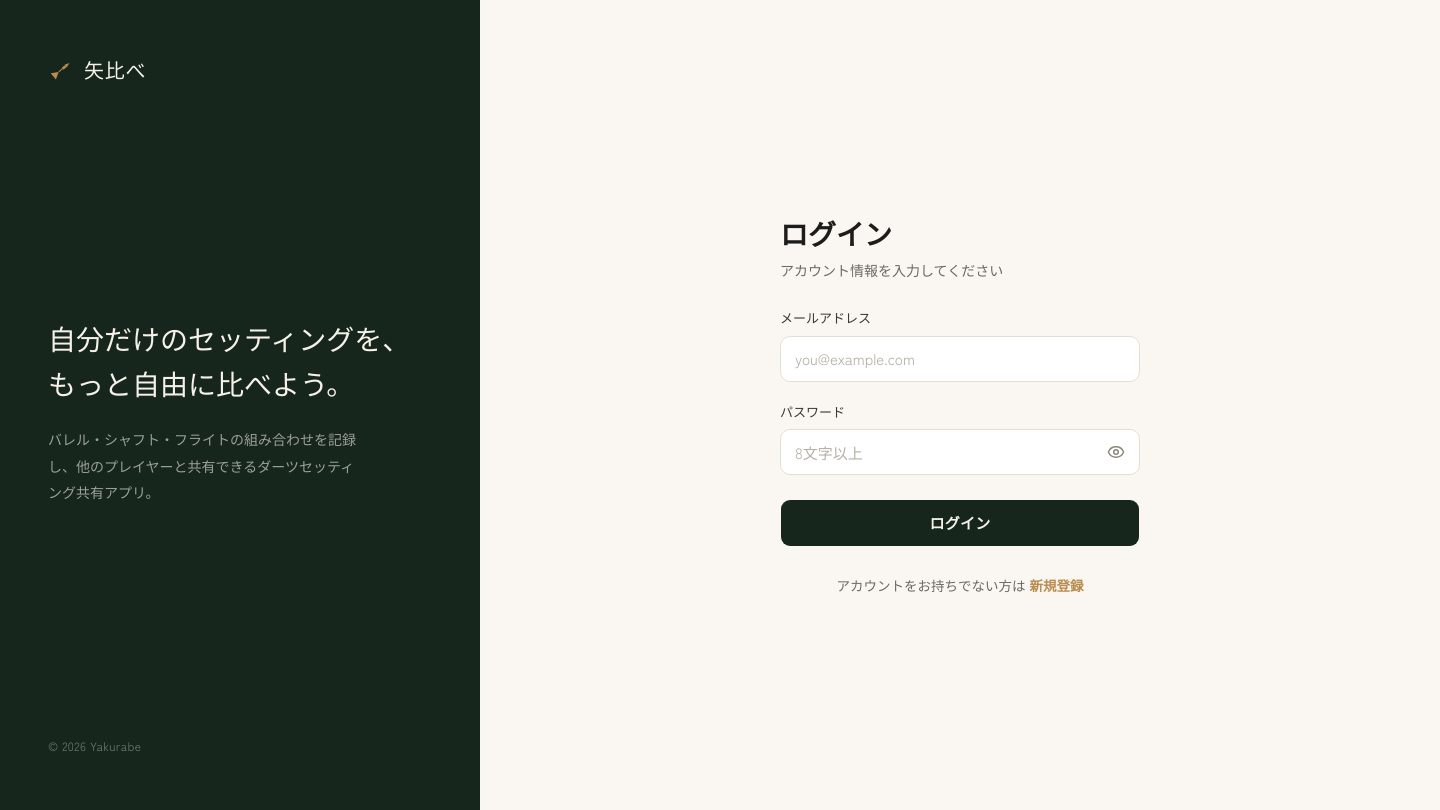
it: LoginPage › 未認証ならその旨と再送ページへのリンクを表示する
Type "test@example.com" into the field labelled "メールアドレス" at [960, 358], box [780,336,1140,382]
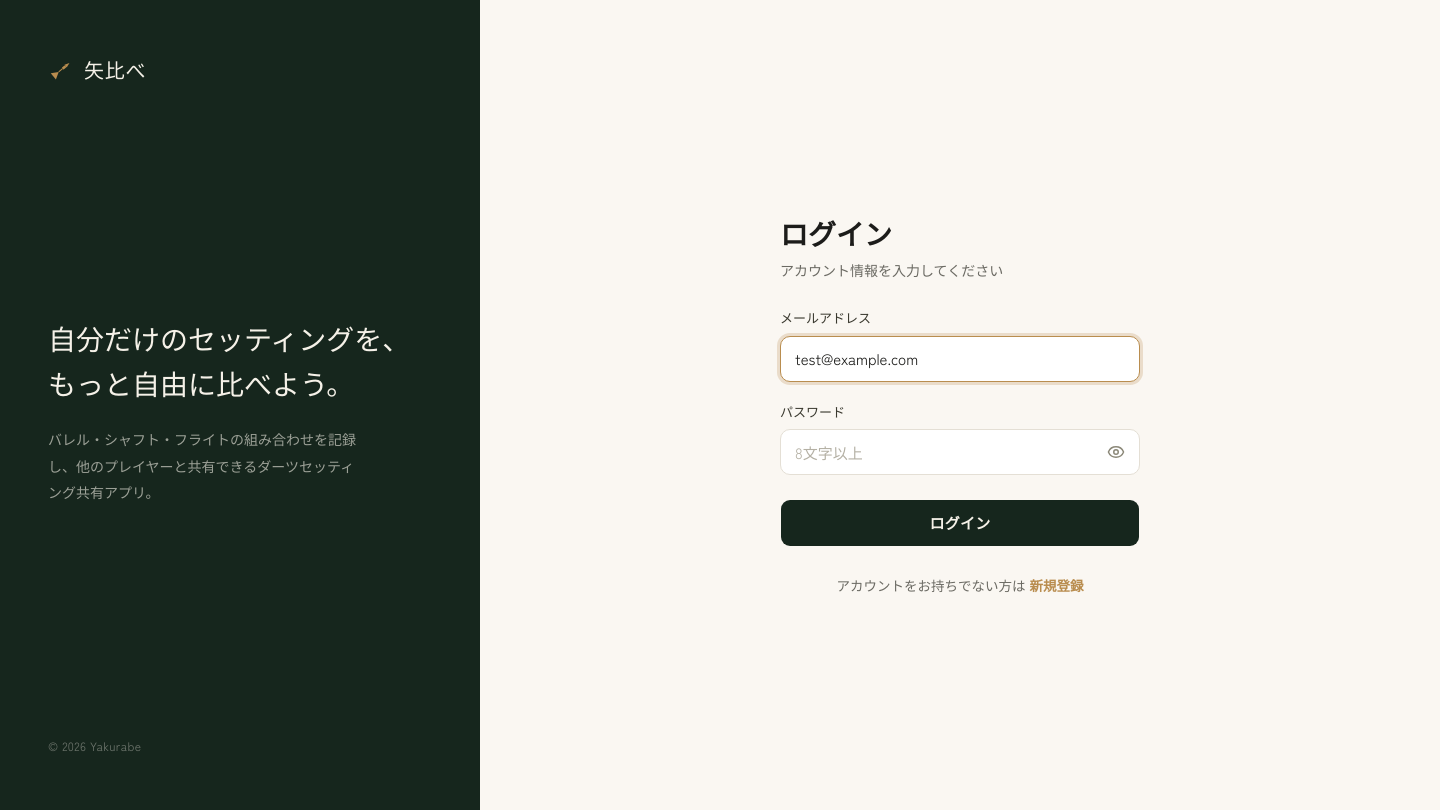
Type "Password123!" into the password field labelled "パスワード" at [960, 452], box [780,429,1140,475]
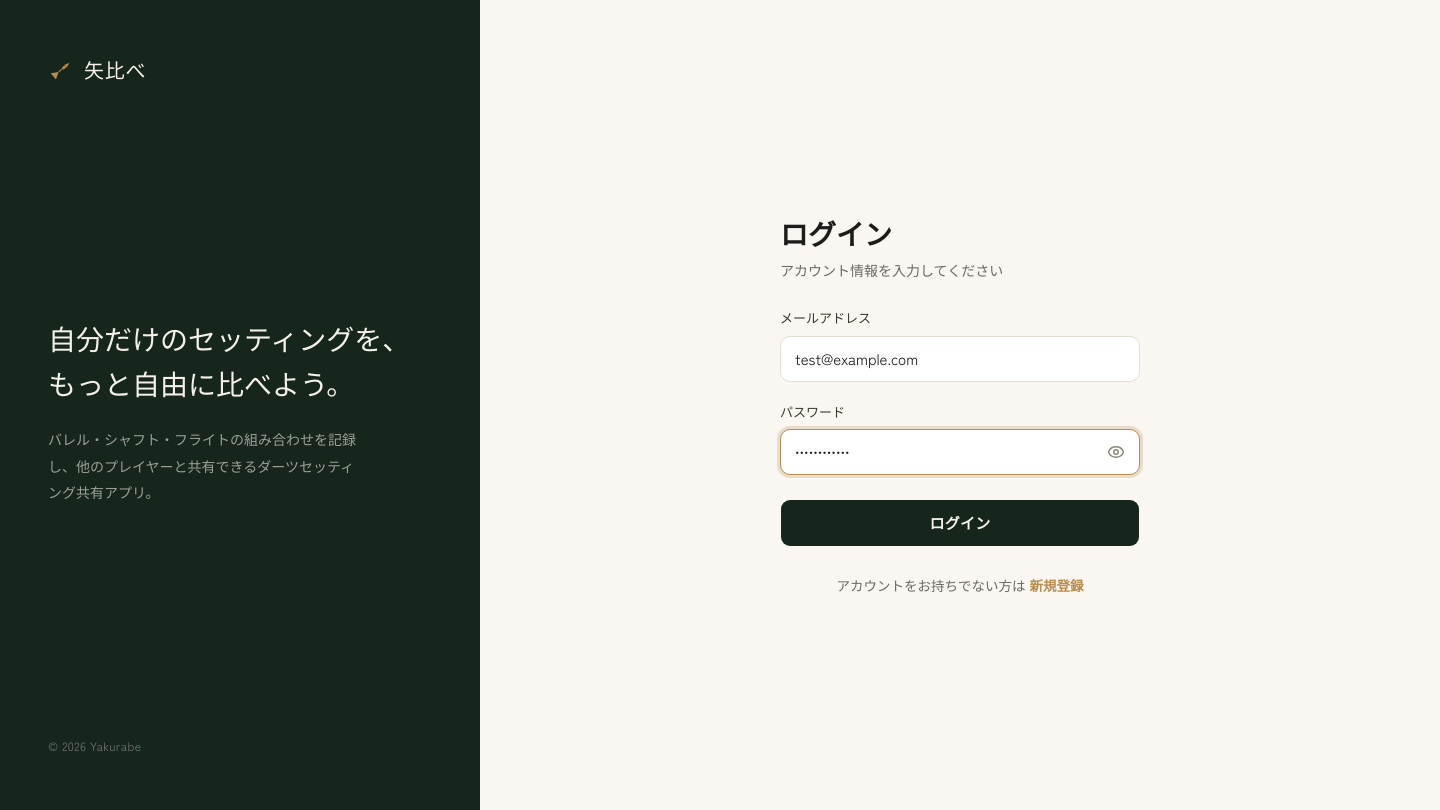
Click the button "ログイン" at [960, 523], box [780,499,1140,547]
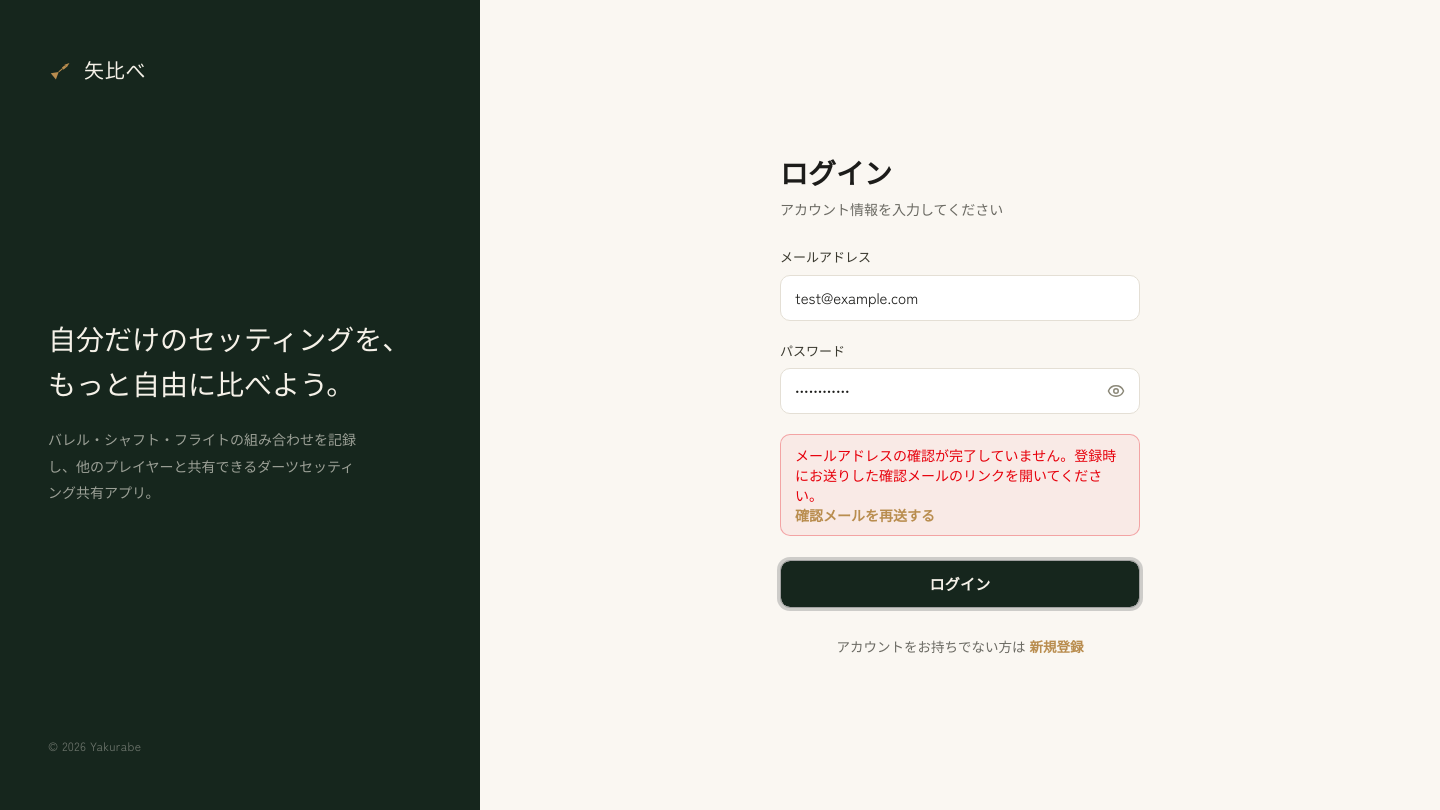
Now the text "メールアドレスの確認が完了していません。登録時にお送りした確認メールのリンクを開いてください。 確認メールを再送する" is shown, box [780,434,1140,536]
